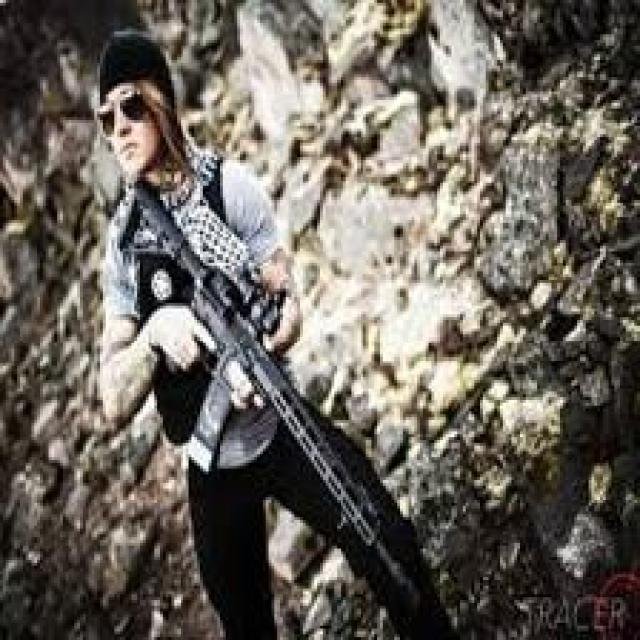Rifle: (140, 213, 369, 527)
